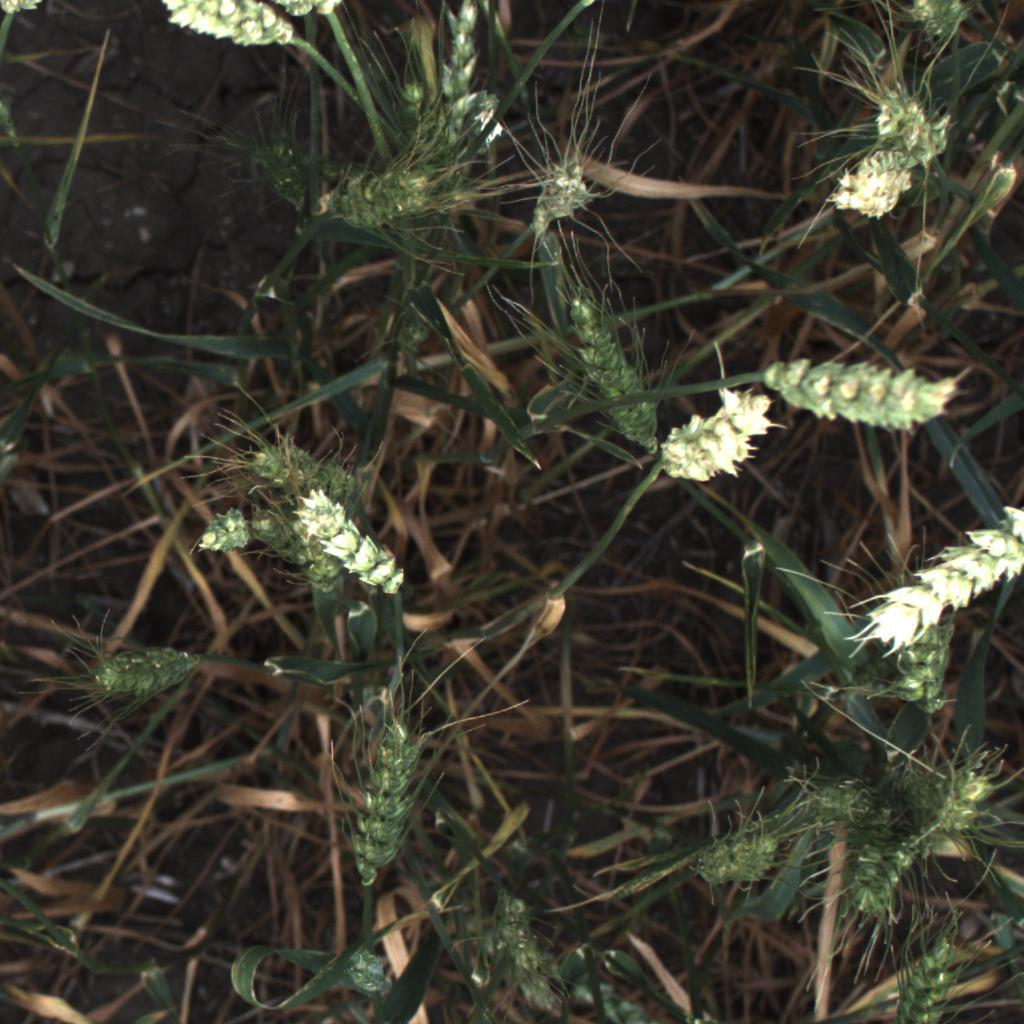0-0: (842, 497, 1024, 668), (333, 683, 439, 904), (754, 350, 975, 436), (555, 279, 662, 436), (646, 377, 780, 497), (70, 623, 217, 729), (290, 486, 413, 606), (239, 430, 381, 515), (852, 75, 962, 169), (316, 160, 440, 240), (891, 758, 1019, 831), (428, 2, 496, 135), (887, 924, 977, 1024), (518, 141, 608, 241), (818, 147, 927, 229), (872, 634, 967, 719), (852, 824, 933, 917), (155, 1, 301, 52), (196, 496, 309, 555), (689, 826, 791, 890), (491, 888, 550, 986), (254, 134, 310, 217), (445, 83, 500, 157), (907, 0, 975, 43), (342, 951, 392, 991), (0, 0, 69, 22), (275, 0, 344, 22), (0, 805, 2, 908)
